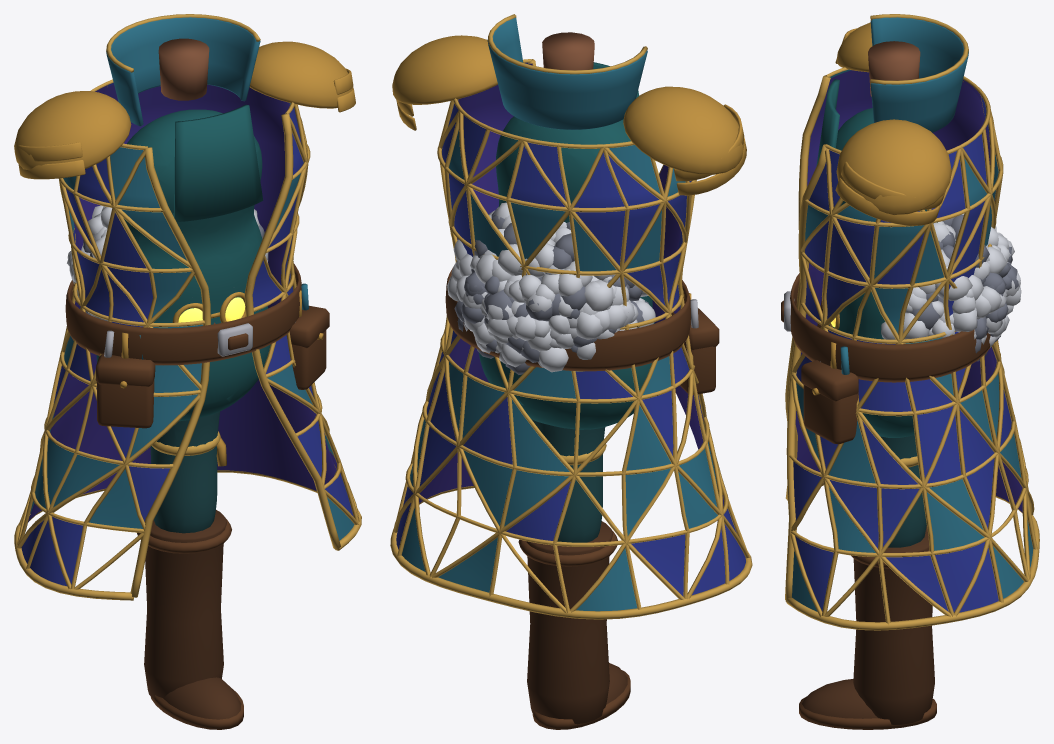
File: emmy.glb
The picture shows the model from 3 angles, left to right: view 1: azimuth 30°, elevation 25°; view 2: azimuth 150°, elevation 25°; view 3: azimuth 270°, elevation 25°; orthographic projection. The views are drawn at different scales.
Parts seen in each view (by area): view 1: em_torso, em_leg, em_head, em_sleeve; view 2: em_torso, em_head, em_leg; view 3: em_torso, em_leg, em_head.
Part boxes in pixels (x1,y1,x2,y2): em_torso: [14, 14, 361, 600]; em_leg: [137, 411, 243, 729]; em_head: [67, 205, 268, 324]; em_sleeve: [151, 431, 220, 455]; em_torso: [390, 14, 752, 619]; em_head: [447, 202, 655, 374]; em_leg: [518, 419, 630, 729]; em_torso: [781, 14, 1039, 630]; em_leg: [799, 434, 936, 729]; em_head: [829, 213, 1021, 361].
Bounding box in the file's own units: 0.7341 × 1.4 × 0.4931.
